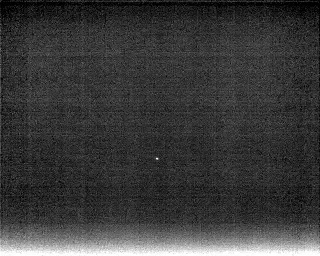BIRD: (154, 154, 161, 163)
